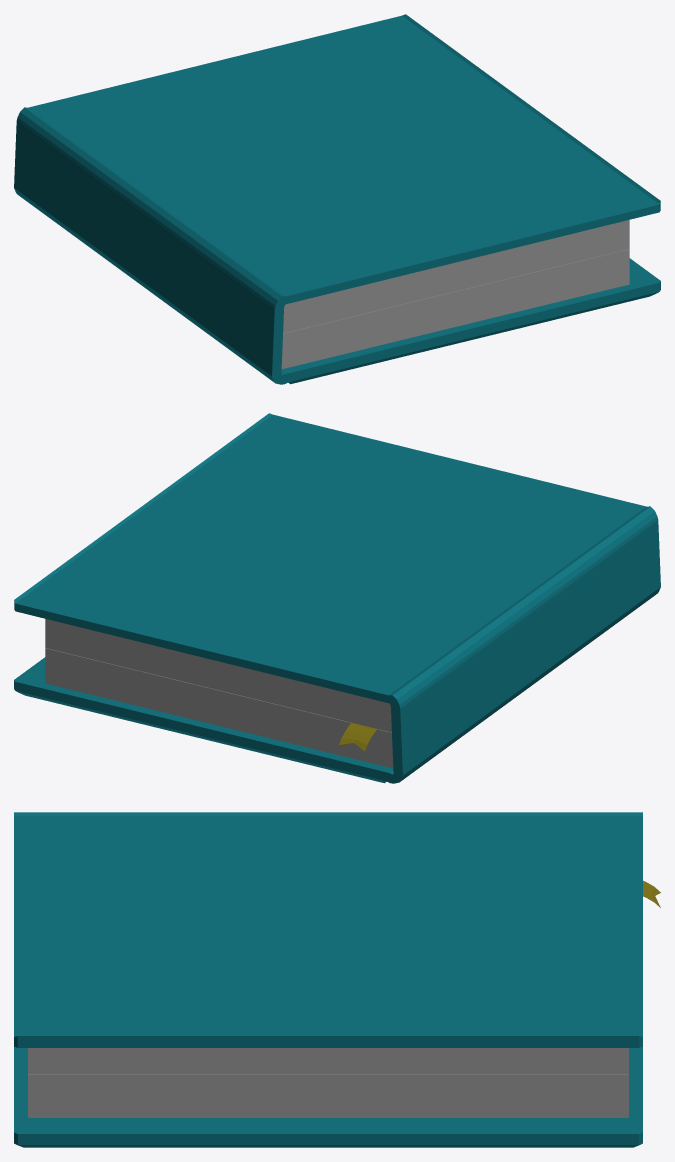
File: book5.obj
The picture shows the model from 3 angles, top to bottom: view 1: azimuth 30°, elevation 25°; view 2: azimuth 150°, elevation 25°; view 3: azimuth 270°, elevation 25°; orthographic projection. The views are drawn at different scales.
Visible parts, largest first — view 1: Mesh2; view 2: Mesh2; view 3: Mesh2.
Boxes of the visible parts, x1,y1,x2,y2 form: Mesh2: (14, 14, 660, 384); Mesh2: (14, 413, 660, 783); Mesh2: (14, 812, 660, 1147).
Bounding box in the file's own units: 8.75 × 2.05 × 10.29.
